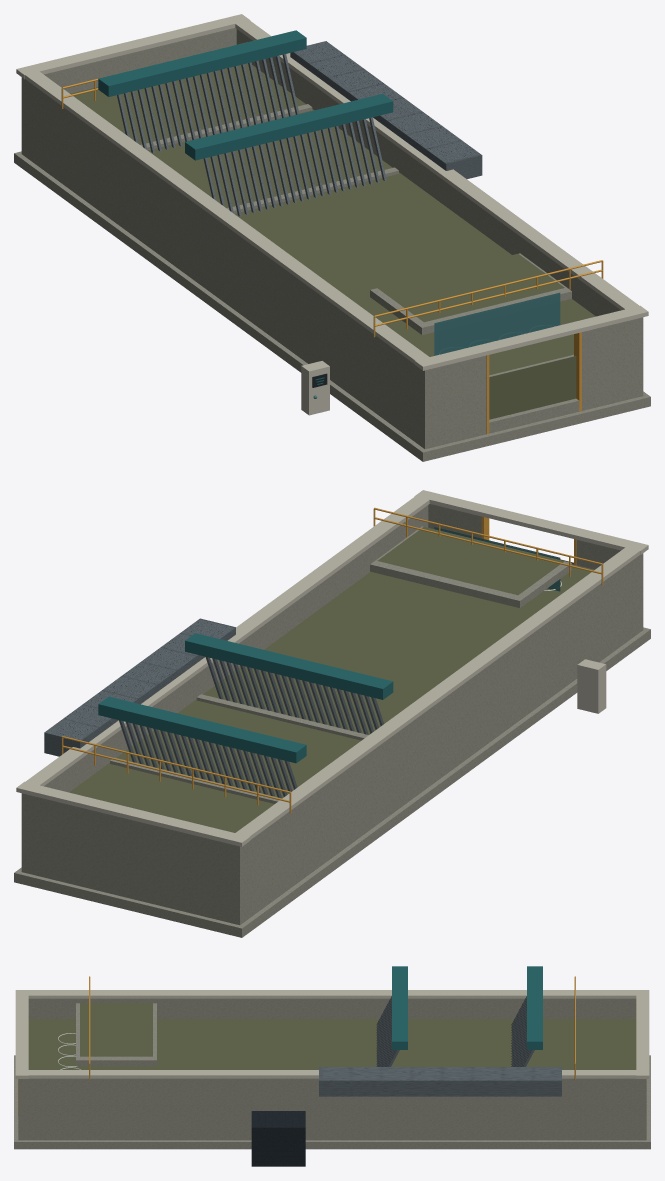
Rendered from water-inlet.54683f010f0e.glb.
3 views of the same model, one above another, from view 1: azimuth 30°, elevation 25°; view 2: azimuth 150°, elevation 25°; view 3: azimuth 270°, elevation 25° (orthographic). The views are drawn at different scales.
Visible parts, largest first — view 1: structure_concrete_00114, bounded_free_surface_00012, structure_steel_00118, structure_cream_00117, structure_teal_00119, headwater_00074, continuous_water_sheet_00075, structure_raw_water_00115, structure_yellow_00116; view 2: structure_concrete_00114, bounded_free_surface_00012, structure_cream_00117, structure_steel_00118, structure_teal_00119, headwater_00074, structure_yellow_00116; view 3: structure_concrete_00114, bounded_free_surface_00012, structure_cream_00117, structure_steel_00118, headwater_00074, structure_dark_00120, structure_teal_00119, structure_yellow_00116.
Boxes of the visible parts, x1,y1,x2,y2 form: structure_concrete_00114: (14, 28, 650, 461); bounded_free_surface_00012: (70, 63, 595, 375); structure_steel_00118: (117, 41, 482, 216); structure_cream_00117: (16, 14, 648, 415); structure_teal_00119: (98, 30, 393, 384); headwater_00074: (377, 253, 564, 322); continuous_water_sheet_00075: (434, 292, 560, 355); structure_raw_water_00115: (489, 356, 576, 419); structure_yellow_00116: (61, 68, 603, 434); structure_concrete_00114: (14, 504, 650, 937); bounded_free_surface_00012: (69, 564, 594, 832); structure_cream_00117: (16, 490, 648, 846); structure_steel_00118: (44, 618, 383, 797); structure_teal_00119: (98, 633, 393, 763); headwater_00074: (377, 527, 564, 595); structure_yellow_00116: (61, 507, 603, 813); structure_concrete_00114: (14, 998, 650, 1149); bounded_free_surface_00012: (28, 1019, 636, 1069); structure_cream_00117: (15, 990, 649, 1078); structure_steel_00118: (319, 996, 561, 1096); headwater_00074: (80, 1003, 152, 1056); structure_dark_00120: (251, 1111, 305, 1166); structure_teal_00119: (392, 966, 542, 1049); structure_yellow_00116: (18, 976, 575, 1116).
Size of the model in its own units: 10.05 by 4.28 by 23.6.
10 materials, 3 textured.
